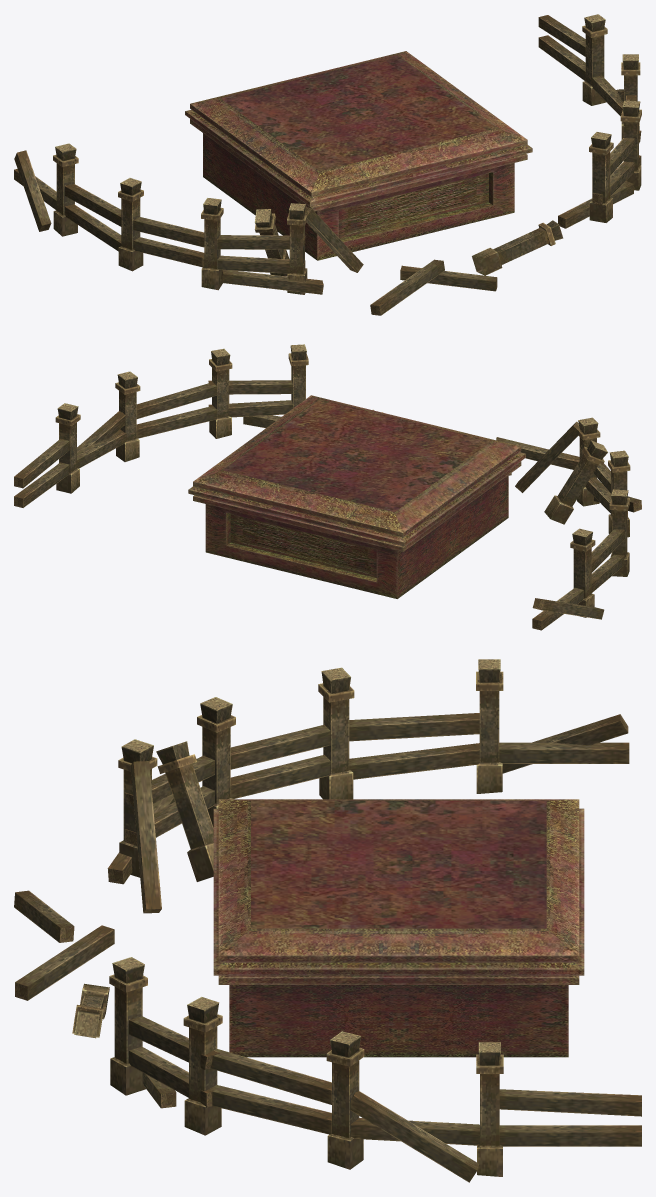
File: 2st_table_001.fbx
The picture shows the model from 3 angles, top to bottom: view 1: azimuth 30°, elevation 25°; view 2: azimuth 150°, elevation 25°; view 3: azimuth 270°, elevation 25°; orthographic projection. The views are drawn at different scales.
Visible parts, largest first — view 1: 4st_table_001; view 2: 4st_table_001; view 3: 4st_table_001.
Part boxes in pixels (x1,y1,x2,y2): 4st_table_001: [14, 14, 641, 315]; 4st_table_001: [14, 344, 641, 630]; 4st_table_001: [14, 659, 641, 1182].
Bounding box in the file's own units: 12.73 × 2.08 × 8.14.
